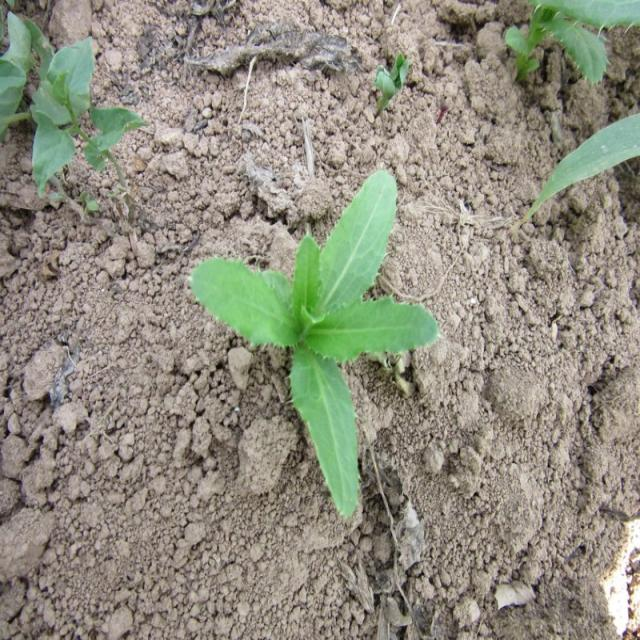field_thistle: (174, 148, 442, 561)
